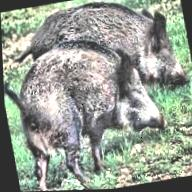boar: (1, 21, 179, 188)
